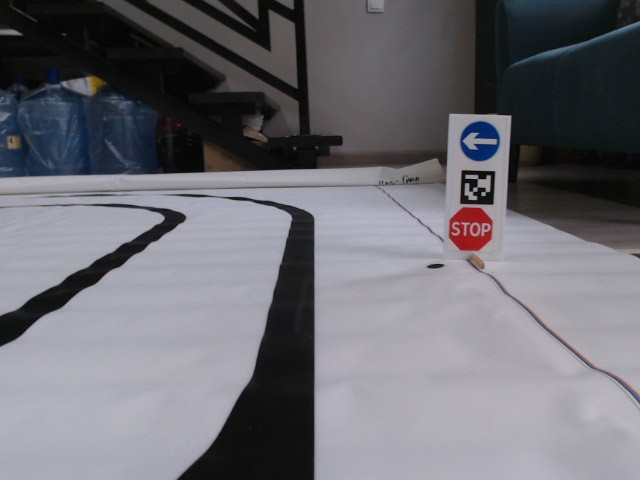Stop: (447, 205, 496, 253)
